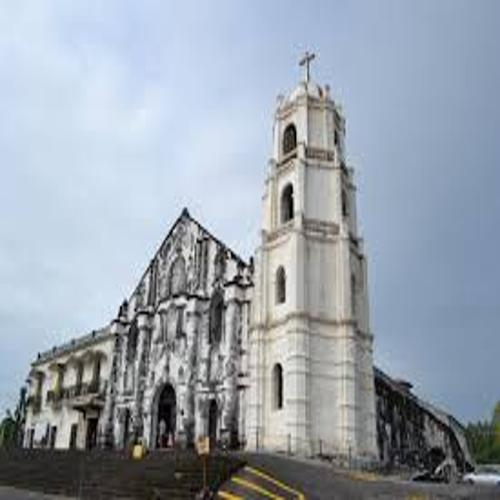Daraga Church: (112, 45, 381, 473)
